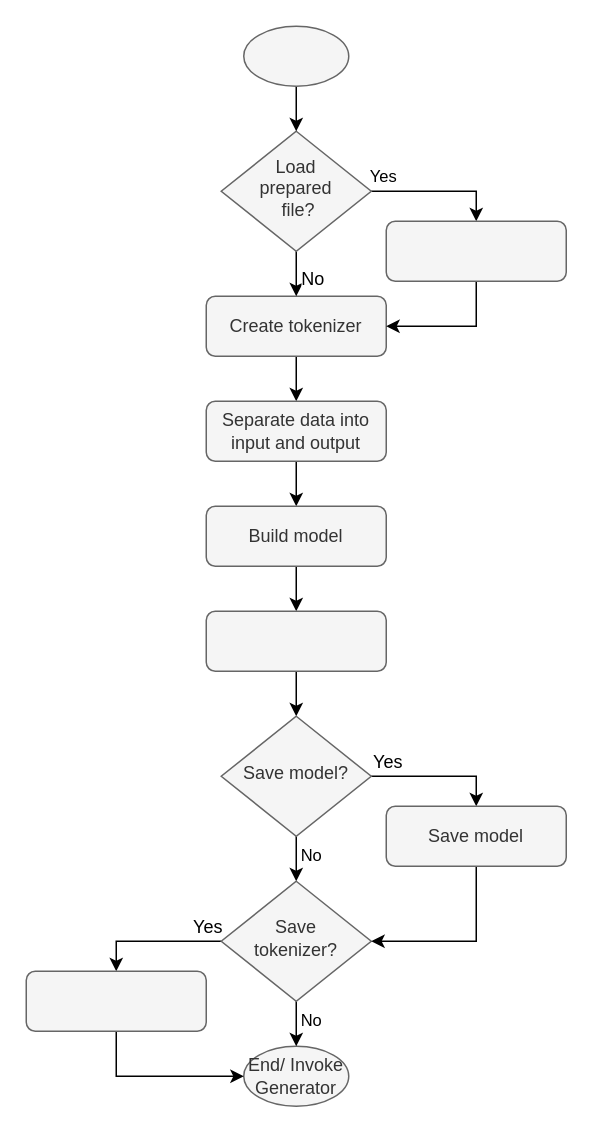
Some shapes in this 593 by 1133 pixel diagram are drawn without their labels. Each missing label, with the centre of its shape:
Compile and fit model: pixel 295 640
Load file: pixel 475 250
Save tokenizer: pixel 115 1000
Start: pixel 295 55
